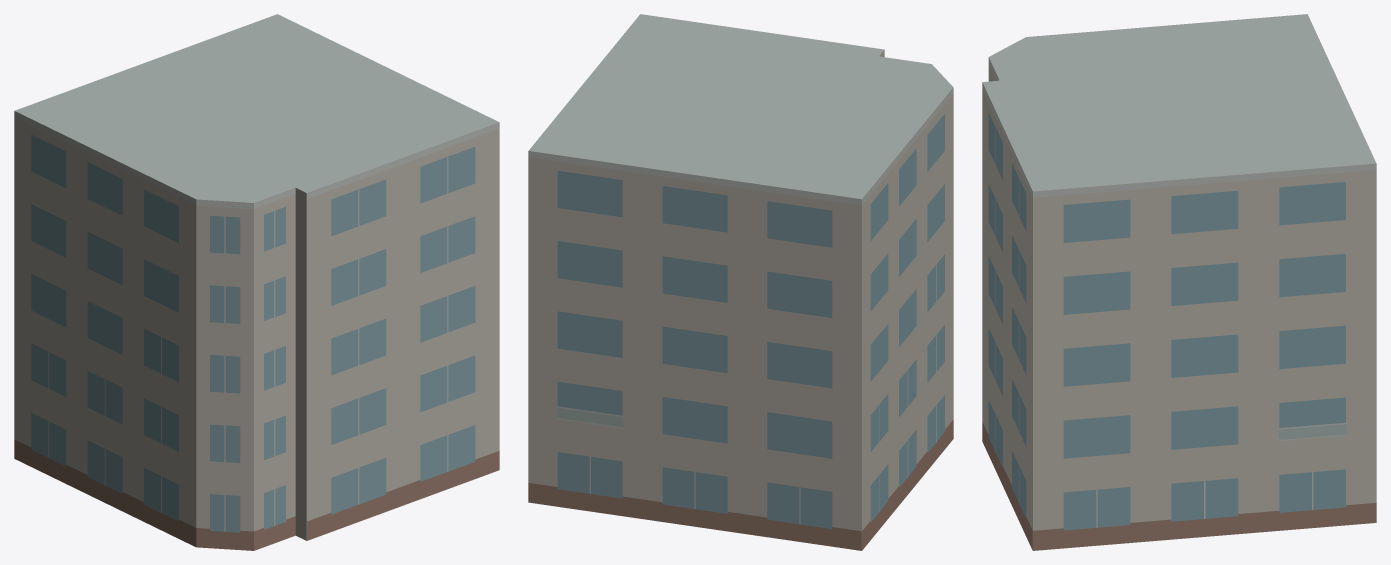
Rendered from survey-upis-32666484.glb.
The picture shows the model from 3 angles, left to right: view 1: azimuth 30°, elevation 25°; view 2: azimuth 150°, elevation 25°; view 3: azimuth 270°, elevation 25°; orthographic projection. The views are drawn at different scales.
Parts seen in each view (by area): view 1: survey-upis-32666484.tmp; view 2: survey-upis-32666484.tmp; view 3: survey-upis-32666484.tmp.
Boxes of the visible parts, x1,y1,x2,y2 form: survey-upis-32666484.tmp: (14, 14, 499, 550); survey-upis-32666484.tmp: (528, 14, 953, 550); survey-upis-32666484.tmp: (982, 14, 1376, 550).
Size of the model in its own units: 14.42 by 13.6 by 13.53.
